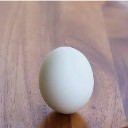begg: (40, 47, 94, 114)
